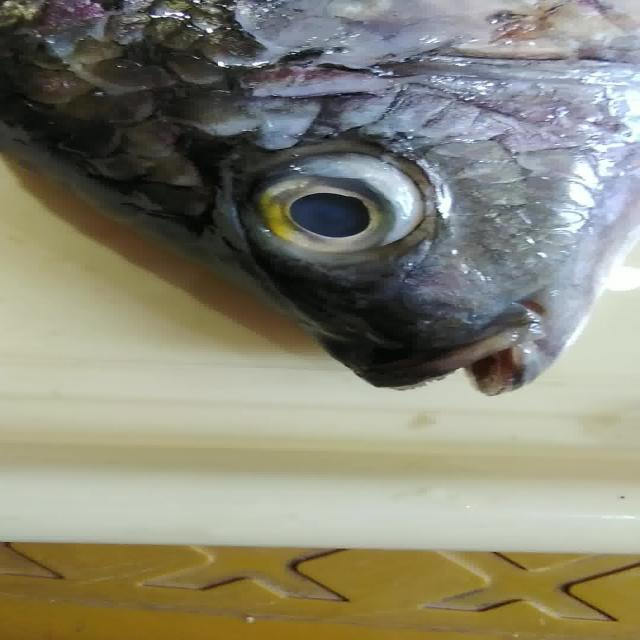Fresh: (222, 127, 468, 276)
